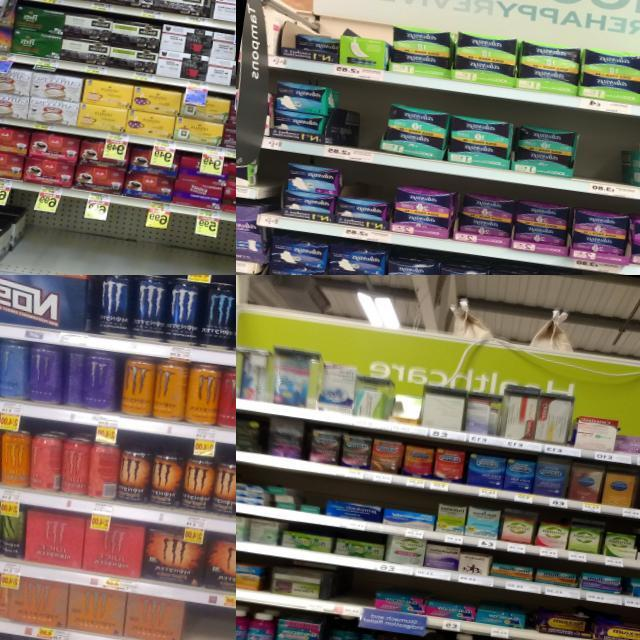empty: (55, 211, 148, 275), (4, 203, 65, 275), (141, 223, 225, 275), (572, 125, 628, 197), (354, 93, 387, 164), (340, 572, 372, 618)
